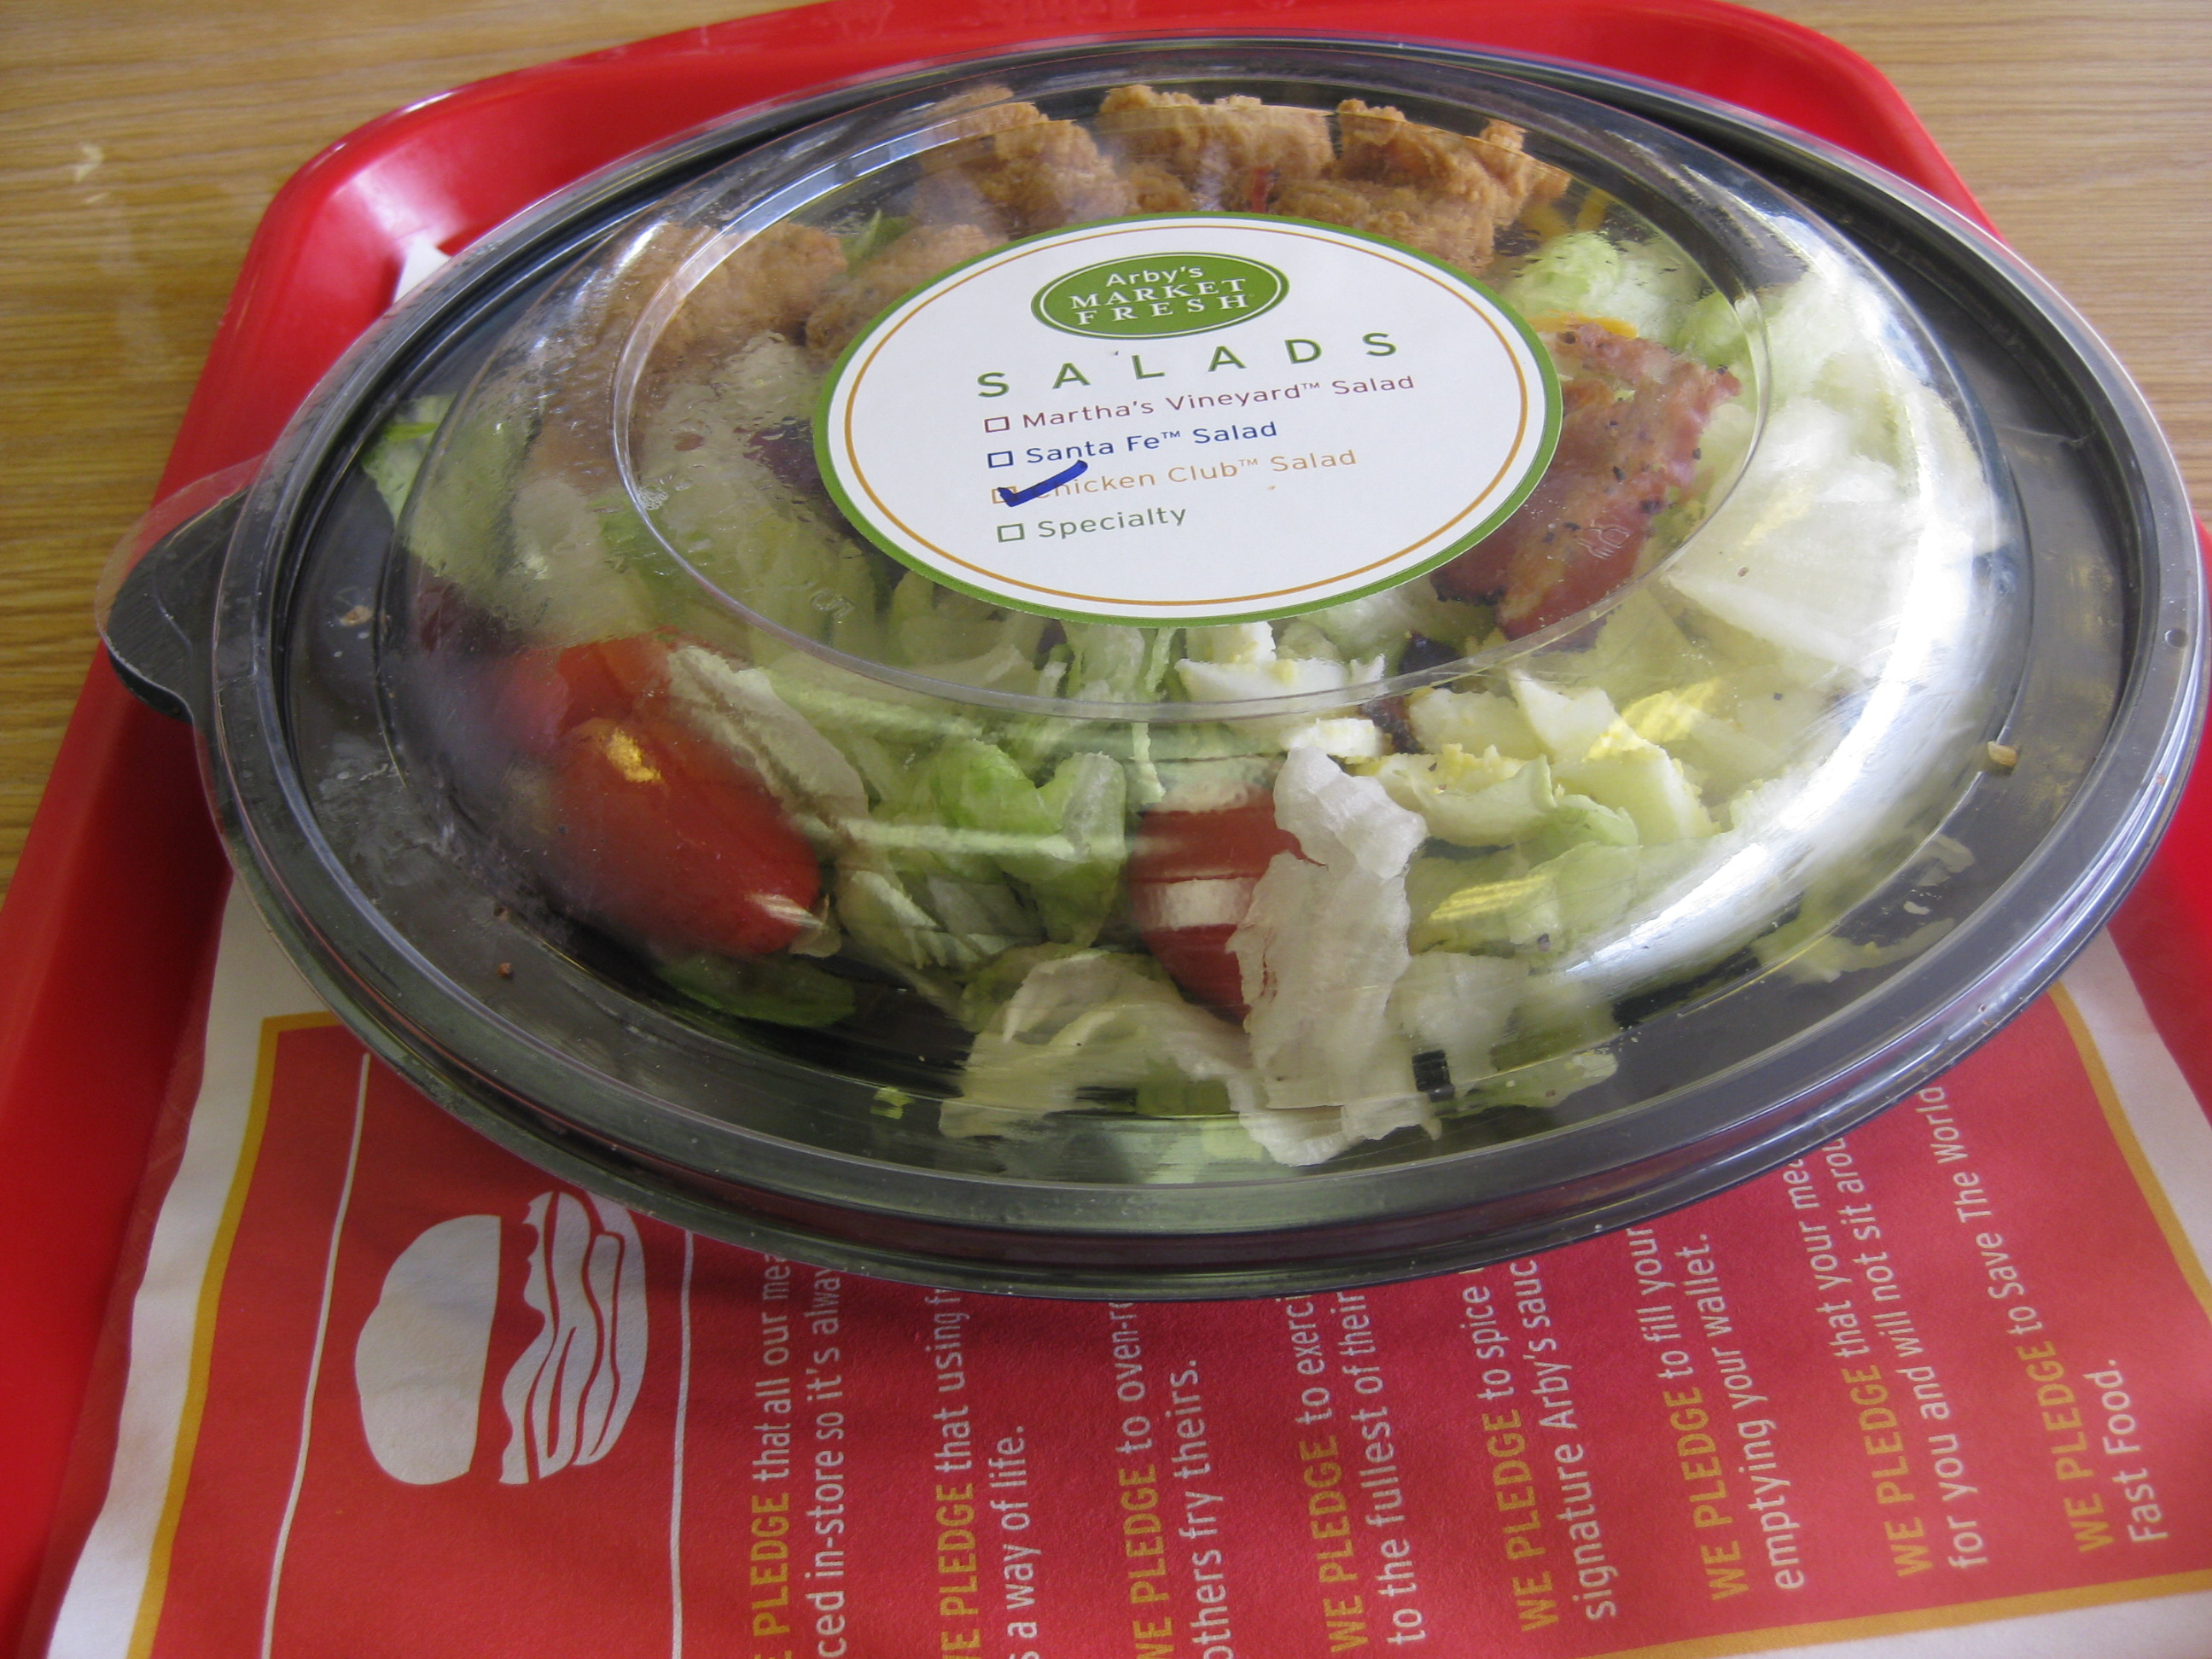salad: (309, 53, 2116, 1214)
